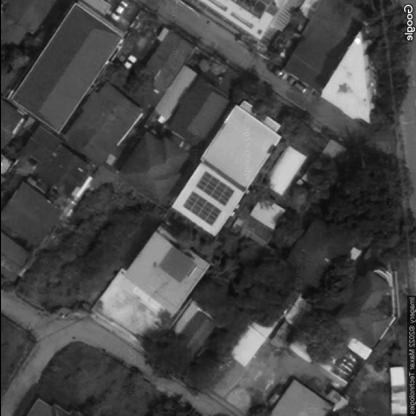solar-pv-panel: (184, 191, 221, 226), (195, 172, 233, 206)
